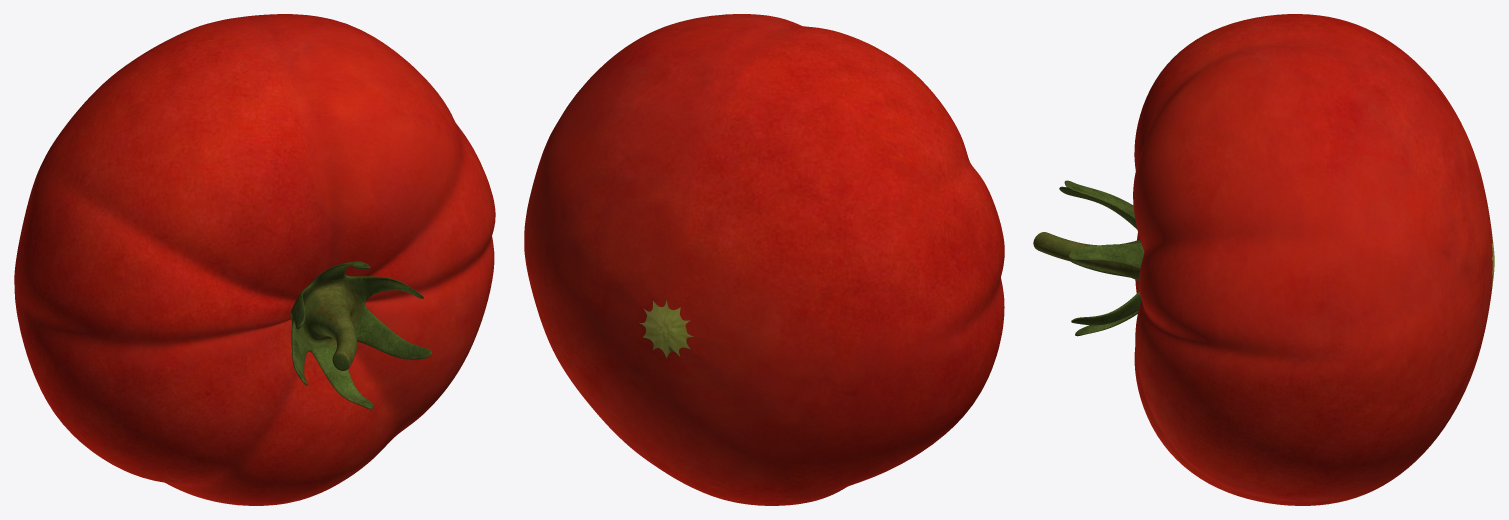
The model's file is tomato.obj.
3 views of the same model, side by side, from view 1: azimuth 30°, elevation 25°; view 2: azimuth 150°, elevation 25°; view 3: azimuth 270°, elevation 25° (orthographic).
Visible parts, largest first — view 1: TomatoBeef_Mesh; view 2: TomatoBeef_Mesh; view 3: TomatoBeef_Mesh.
Part boxes in pixels (<box>): TomatoBeef_Mesh: <box>14,14,495,505</box>; TomatoBeef_Mesh: <box>524,14,1004,505</box>; TomatoBeef_Mesh: <box>1033,14,1494,505</box>.
Size of the model in its own units: 12.44 by 12.45 by 11.5.
Materials: 1 (1 with a texture image).
